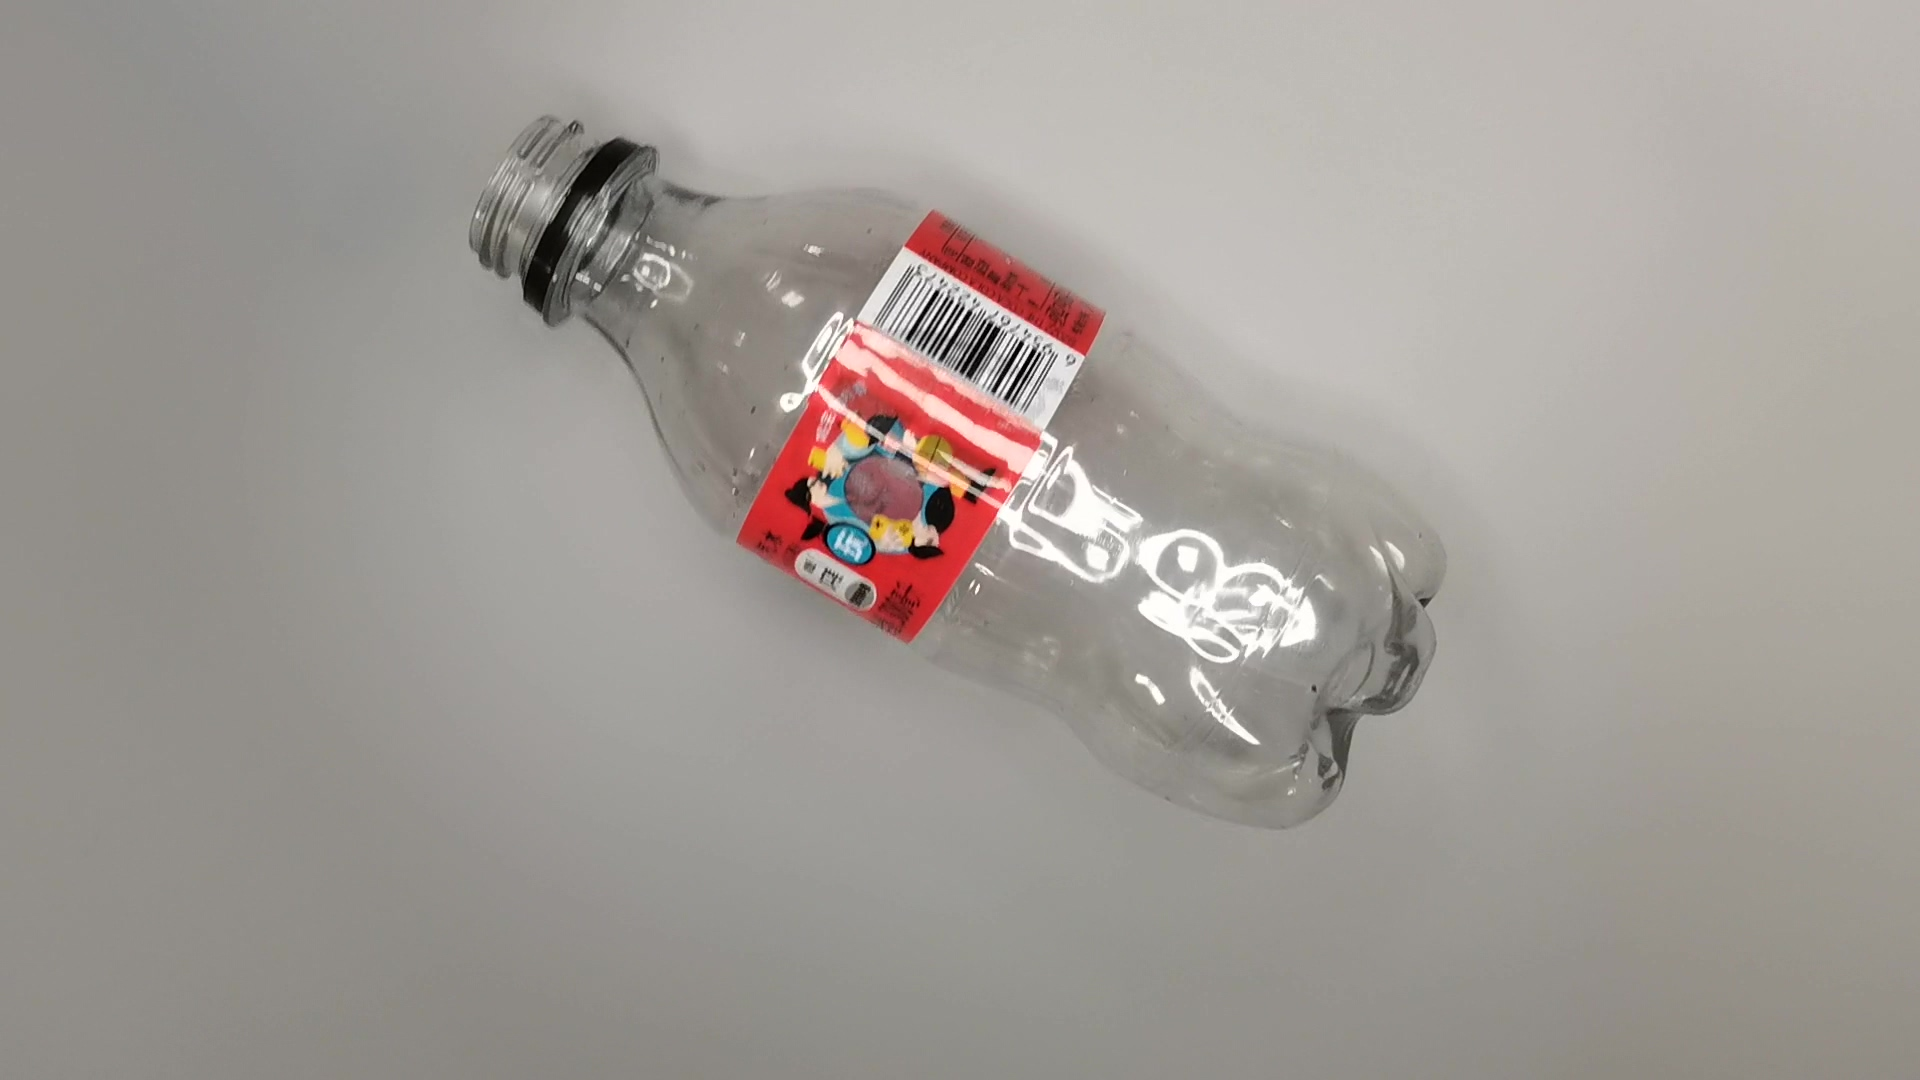bottle: (462, 113, 1458, 837)
